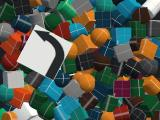Left: (17, 24, 73, 80)
